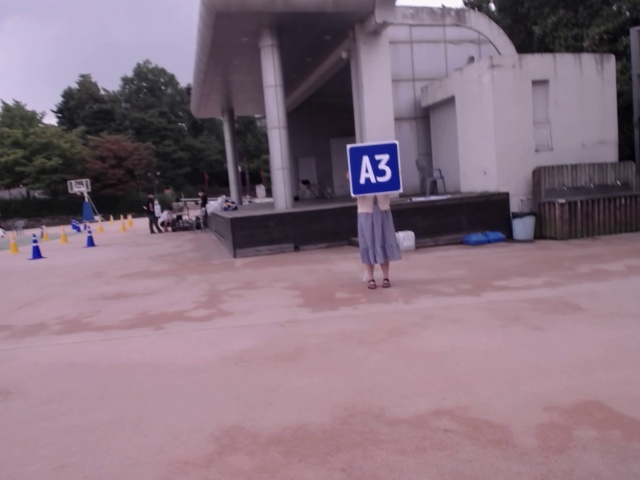delivery_a3: (348, 142, 402, 196)
